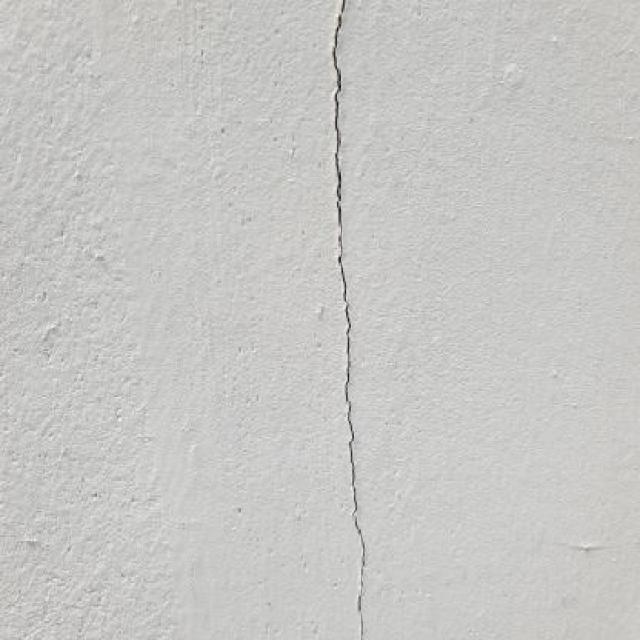GRIETA: (332, 0, 366, 639)
